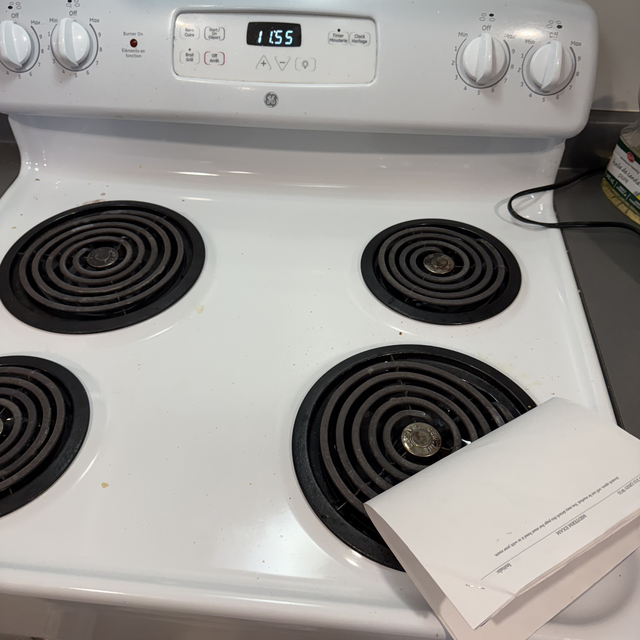Paper: (354, 398, 640, 623)
Stove: (0, 0, 640, 640)
